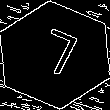L_SW: (28, 26, 82, 84)
